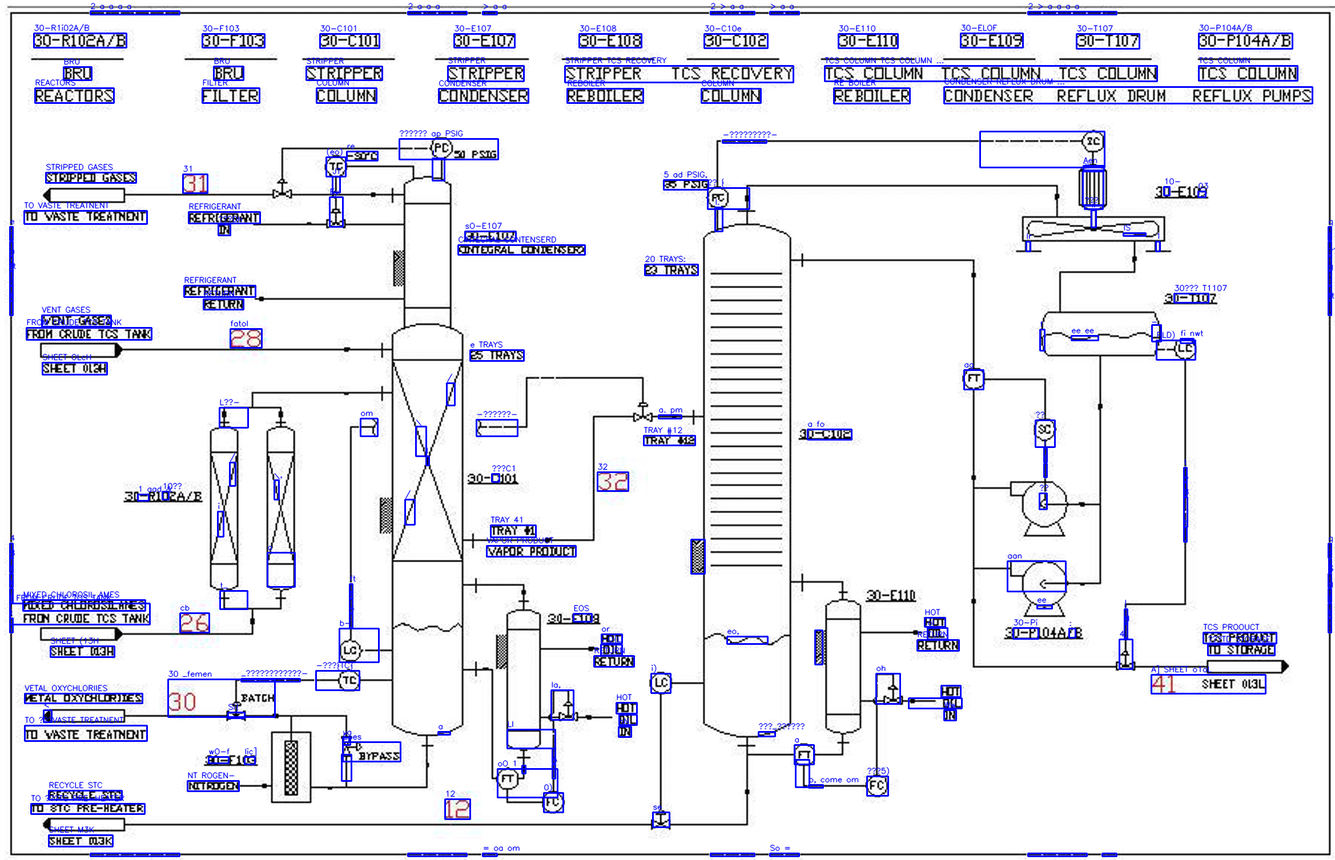Agitador: (1022, 216, 1167, 242)
Bomba: (1008, 558, 1073, 619), (1007, 479, 1072, 539)
Instrumento: (703, 184, 731, 212), (646, 670, 675, 697), (863, 772, 890, 800), (791, 741, 817, 770), (427, 135, 454, 161), (1171, 335, 1197, 362), (540, 789, 567, 814), (337, 639, 363, 664), (496, 766, 521, 792), (961, 366, 988, 390), (336, 668, 361, 693)
Outro: (204, 423, 242, 595), (263, 423, 299, 596), (268, 729, 315, 806), (1031, 417, 1057, 443), (322, 154, 349, 179), (1079, 130, 1106, 155)
Reator: (1076, 163, 1110, 212)
Tanque: (697, 220, 796, 740), (387, 172, 470, 738), (822, 597, 864, 736), (504, 607, 542, 753)
Vaso: (1040, 309, 1161, 359)
Válvula: (336, 734, 363, 761), (324, 205, 349, 231), (225, 699, 249, 724), (1113, 647, 1137, 672), (632, 399, 655, 425), (648, 808, 672, 832), (881, 683, 904, 708), (271, 176, 293, 201), (557, 699, 580, 722)
